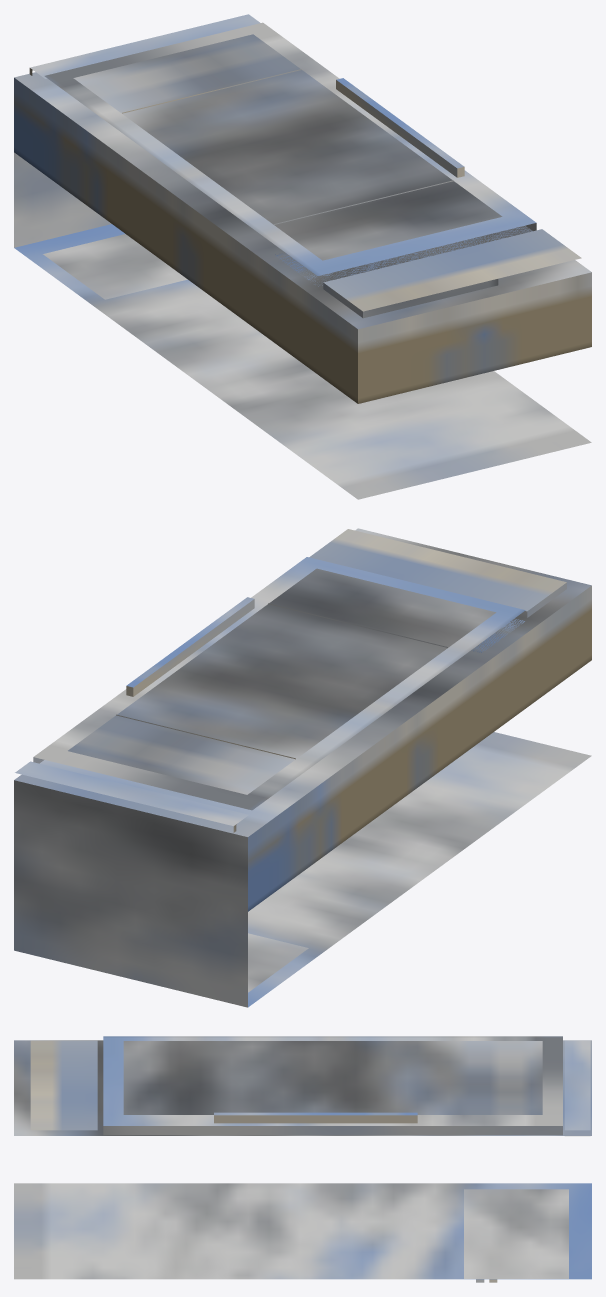
File: section-2.obj
3 renders of one model, top to bottom at view 1: azimuth 30°, elevation 25°; view 2: azimuth 150°, elevation 25°; view 3: azimuth 270°, elevation 25°, orthographic. The views are drawn at different scales.
Bounding box in the file's own units: 0.78 × 0.6215 × 1.99.
